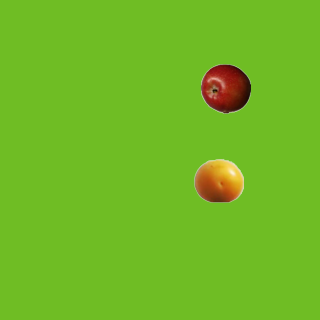Apple Braeburn: (200, 63, 250, 113)
Cherry Wax Yellow: (193, 155, 243, 205)
